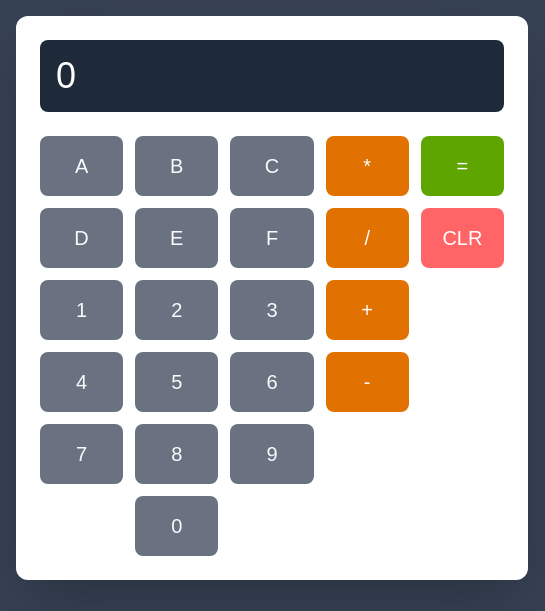
Scenario: Calculator Add Funtion › should multiply FF with FF
Click the button with test id "F".
click(272, 238)  # box [230,208,313,268]
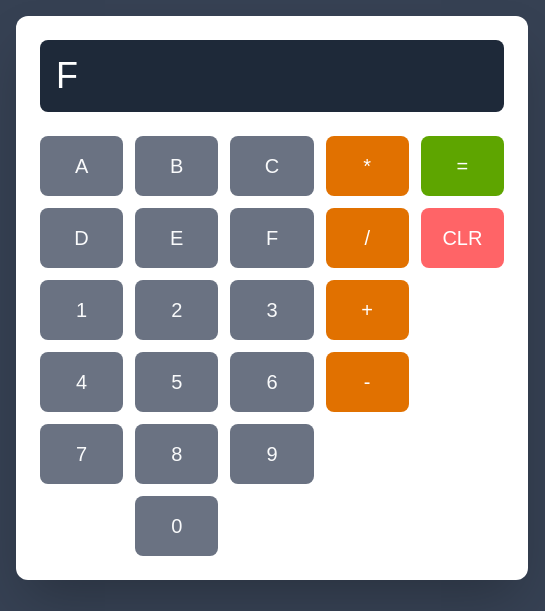
Click the button with test id "F".
click(272, 238)  # box [230,208,313,268]
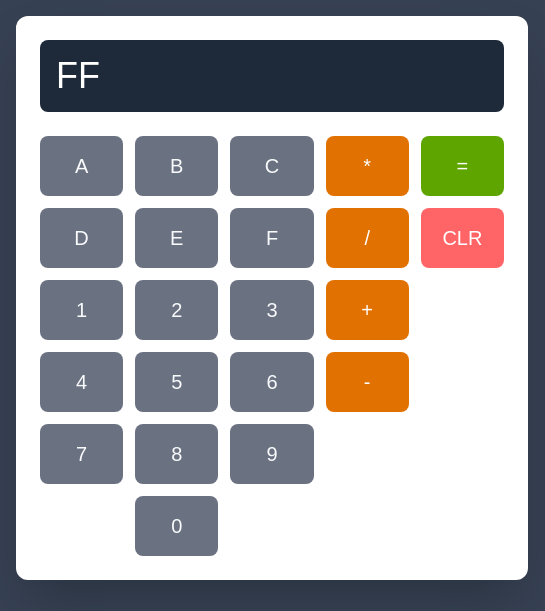
Click the button with test id "*".
click(368, 166)  # box [326,136,409,196]
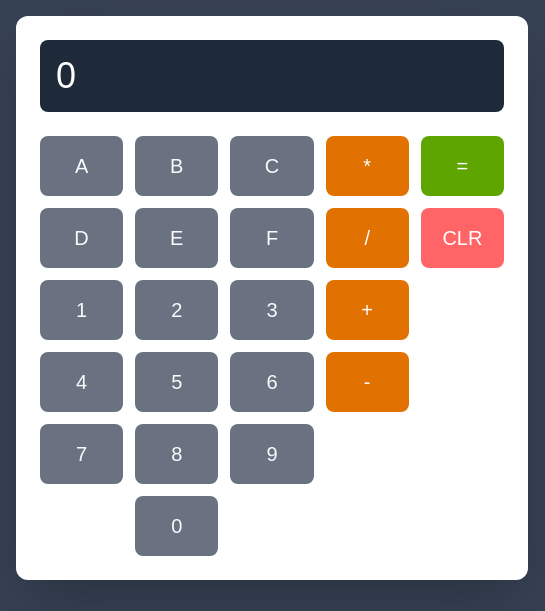
Click the button with test id "F".
click(272, 238)  # box [230,208,313,268]
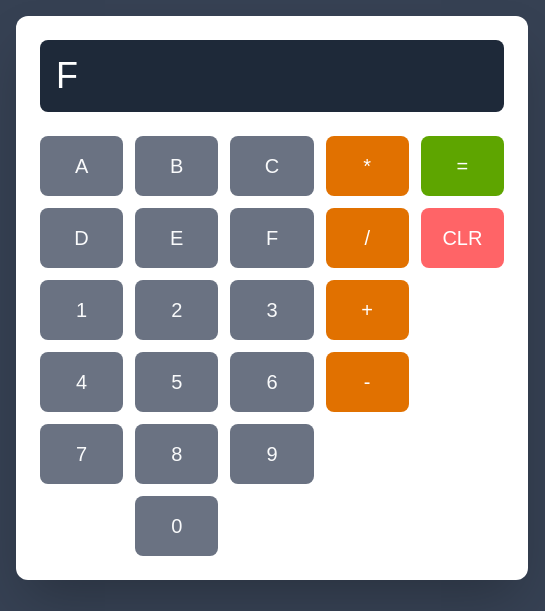
Click the button with test id "F".
click(272, 238)  # box [230,208,313,268]
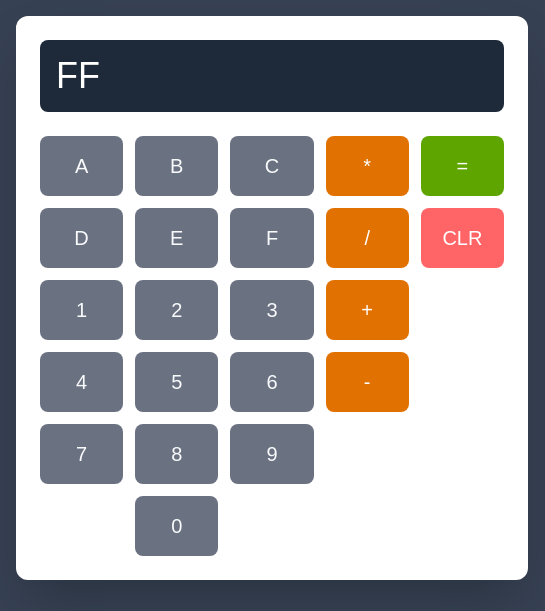
Click the button with test id "equals-btn".
click(463, 166)  # box [421,136,504,196]
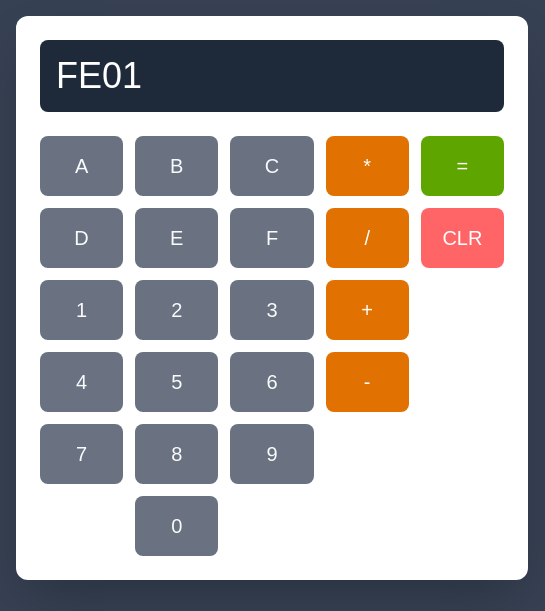
Result: the text with test id "display-value" reads "FE01" at [56,55,142,96]
